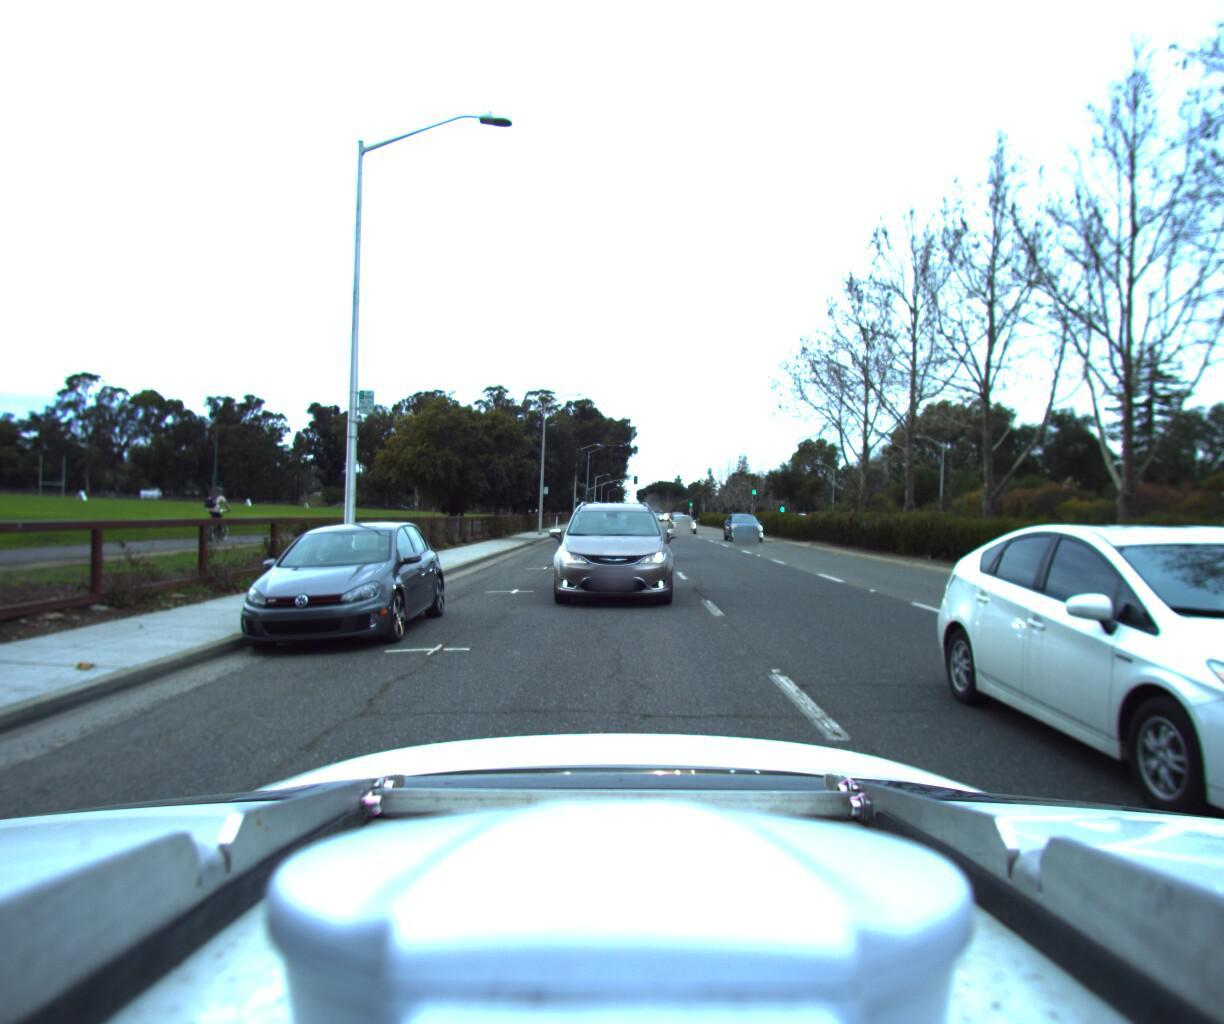bicycle: (190, 479, 238, 538)
car: (983, 509, 1224, 1024), (208, 510, 456, 660), (545, 489, 674, 606), (725, 506, 772, 538), (667, 508, 698, 529)
